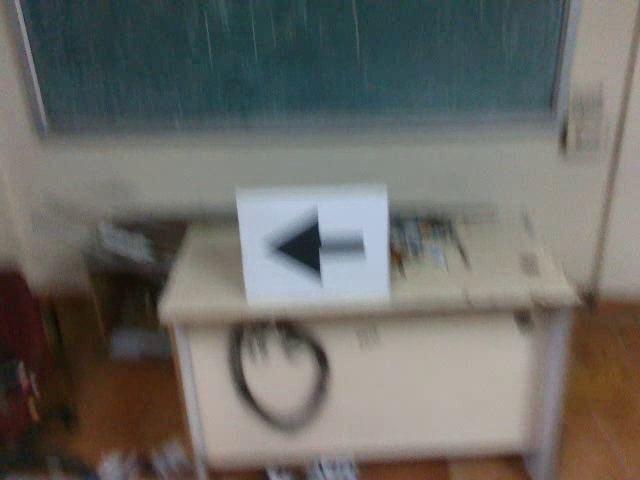Left: (259, 204, 376, 283)
